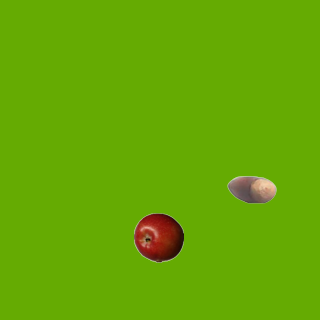Apple Braeburn: (133, 212, 183, 262)
Hazelnut: (226, 164, 276, 214)
